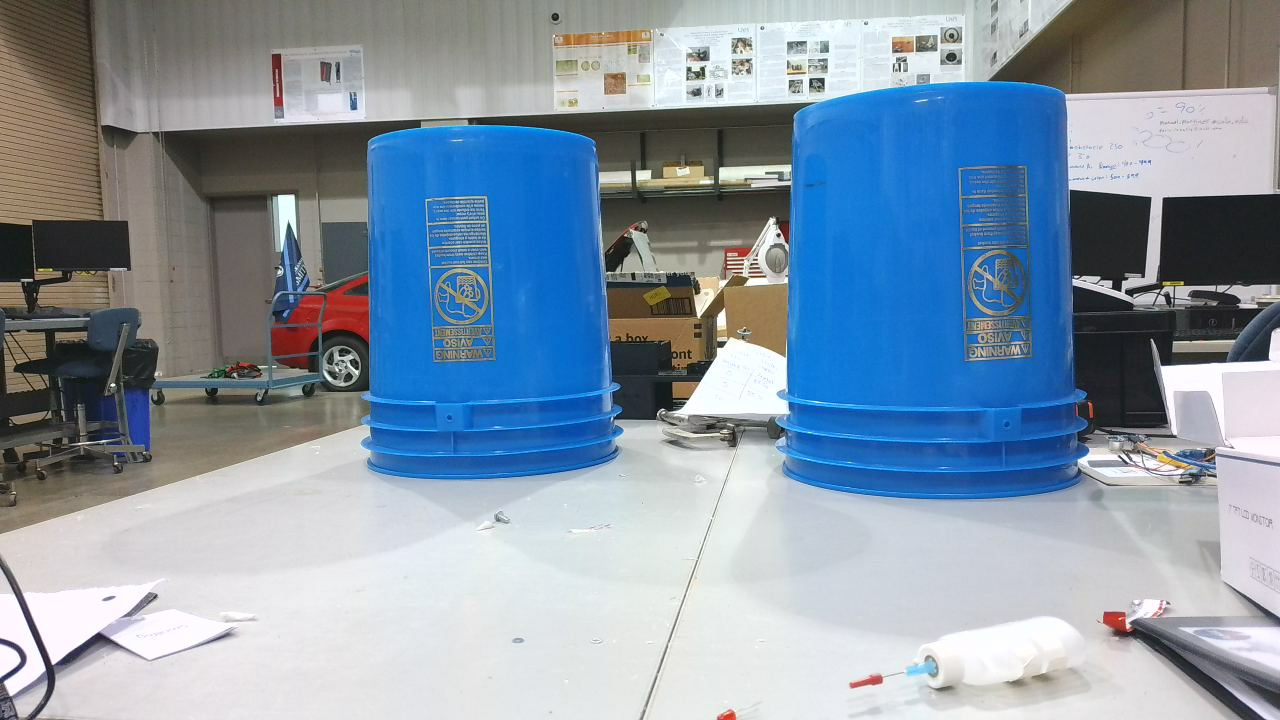blue_bucket: (778, 83, 1100, 510), (360, 126, 634, 491)
